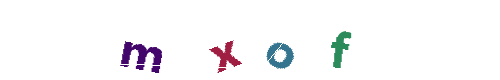F: (263, 0, 343, 80)
M: (101, 0, 181, 80)
O: (210, 0, 290, 80)
X: (185, 0, 265, 80)
